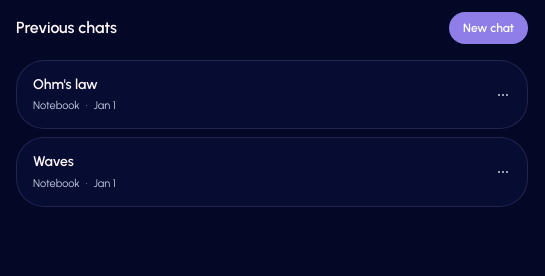
JamiAssistantHistory mode switching › clears an open rename elsewhere when a delete starts
This screenshot has width=545, height=276.
Click the heading named "More options for Ohm's law" at (503, 95), box 495,87 -> 511,103
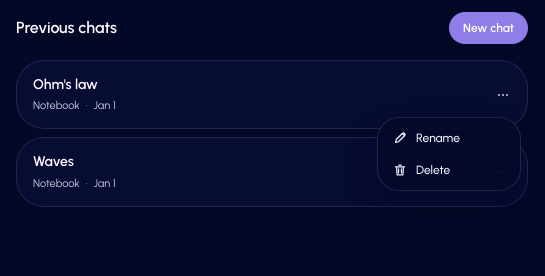
Expected: the button "Rename" is shown
Click the button "Rename" at (449, 138), box 382,122 -> 516,154
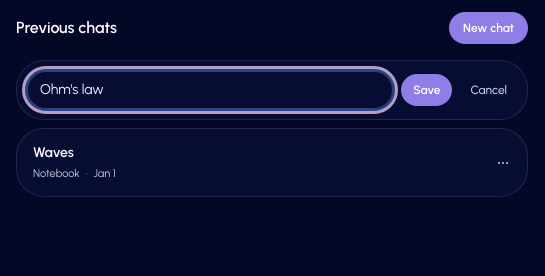
Expected: the field with id "jami-chat-title-t-1" is shown, 27,71 -> 393,109
Click the heading named "More options for Waves" at (503, 163), box 495,155 -> 511,171
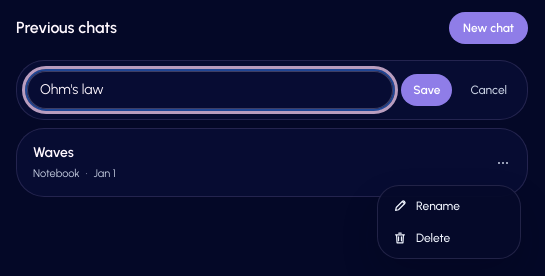
Expected: the button "Delete" is shown
Click the button "Delete" at (449, 238), box 382,222 -> 516,254
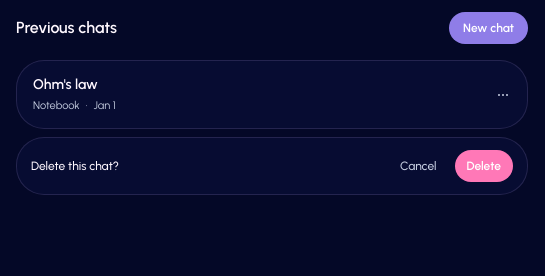
Expected: the field with id "jami-chat-title-t-1" is gone
Expected: the text "Delete this chat?" is shown, 31,158 -> 119,174
